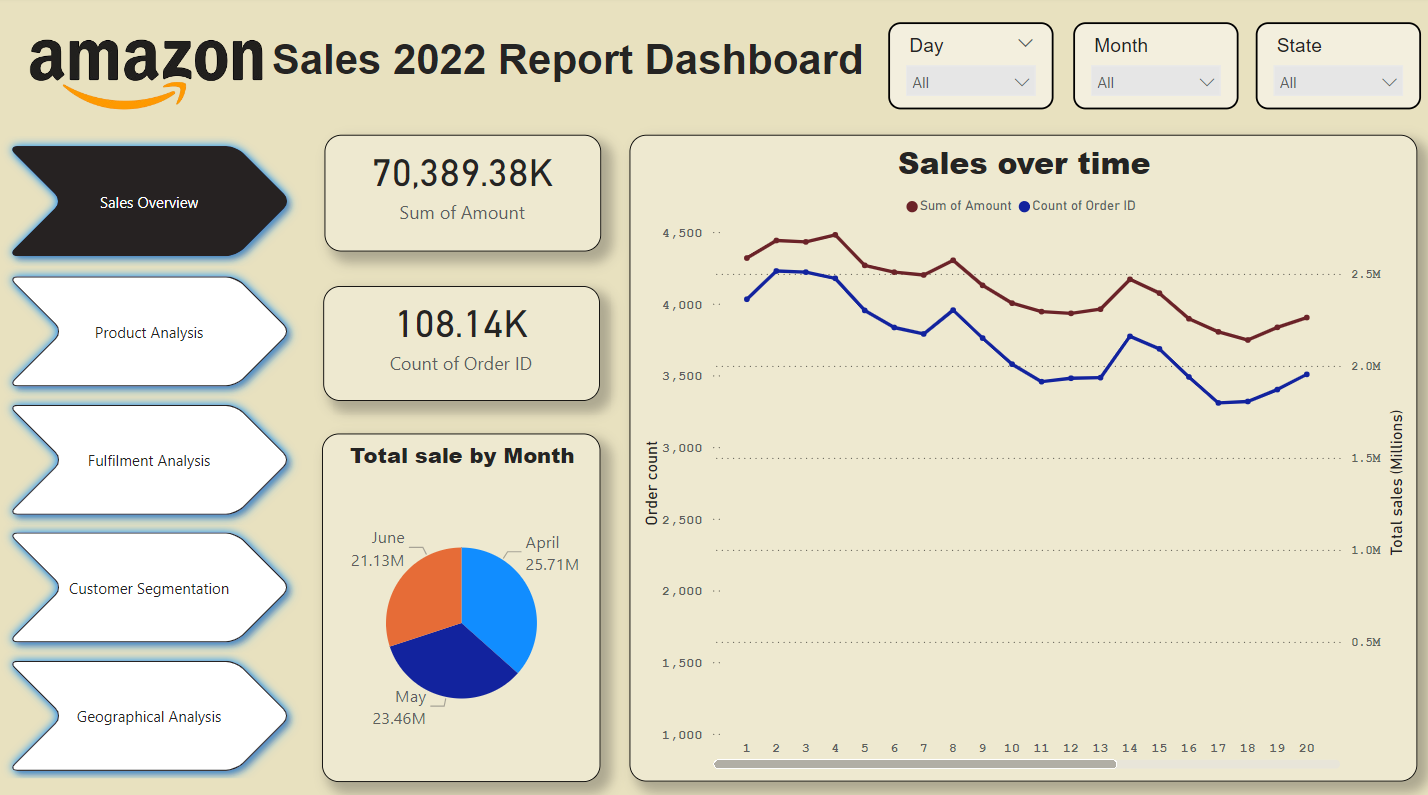

Layout of this report page (visuals, bound fields, positions):
{"tool":"powerbi","page":{"name":"Sales Overview","canvas":[1280,720],"ordinal":0},"visuals":[{"type":"image","box":[24.1,30.2,217.2,79.6],"z":0},{"type":"textbox","box":[229.2,30.2,646.3,70],"z":1000},{"type":"pageNavigator","box":[0,124.3,271.4,575.5],"z":2000},{"type":"slicer","fields":{"Values":["Amazon Sale Report - Copy.Date.Variation.Date Hierarchy.Month"]},"box":[957.9,22.9,147.2,77.2],"z":3000},{"type":"slicer","fields":{"Values":["Amazon Sale Report - Copy.Date.Variation.Date Hierarchy.Day"]},"box":[793.8,22.9,147.2,77.2],"z":4000},{"type":"slicer","fields":{"Values":["Amazon Sale Report - Copy.ship-state"]},"box":[1120.8,22.9,147.2,77.2],"z":5000},{"type":"lineChart","title":"Sales over time","fields":{"Y":["Sum(Amazon Sale Report - Copy.Amount)"],"Y2":["CountNonNull(Amazon Sale Report - Copy.Order ID)"],"Category":["Amazon Sale Report - Copy.Date.Variation.Date Hierarchy.Day"]},"box":[563,124,701.3,575.9],"z":6000},{"type":"card","fields":{"Values":["Sum(Amazon Sale Report - Copy.Amount)"]},"box":[292.2,124,246.6,104.1],"z":7000},{"type":"card","fields":{"Values":["CountNonNull(Amazon Sale Report - Copy.Order ID)"]},"box":[290.8,258,246.6,102.6],"z":8000},{"type":"pieChart","title":"Total sale by Month","fields":{"Category":["Amazon Sale Report - Copy.Date.Variation.Date Hierarchy.Month"],"Y":["Sum(Amazon Sale Report - Copy.Amount)"]},"box":[289.4,389.1,248,310.7],"z":9000}]}

Visuals, with their boxes in screenshot pixels (x1, y1, x2, y2), scaled from the page's 1280x720 canvas onto the 1428x795 screenshot:
image: detection(27, 33, 269, 121)
textbox: detection(256, 33, 977, 111)
pageNavigator: detection(0, 137, 303, 773)
slicer - Amazon Sale Report - Copy.Date.Variation.Date Hierarchy.Month: detection(1069, 25, 1233, 111)
slicer - Amazon Sale Report - Copy.Date.Variation.Date Hierarchy.Day: detection(886, 25, 1050, 111)
slicer - Amazon Sale Report - Copy.ship-state: detection(1250, 25, 1415, 111)
"Sales over time" lineChart: detection(628, 137, 1410, 773)
card - Sum(Amazon Sale Report - Copy.Amount): detection(326, 137, 601, 252)
card - CountNonNull(Amazon Sale Report - Copy.Order ID): detection(324, 285, 600, 398)
"Total sale by Month" pieChart: detection(323, 430, 600, 773)
